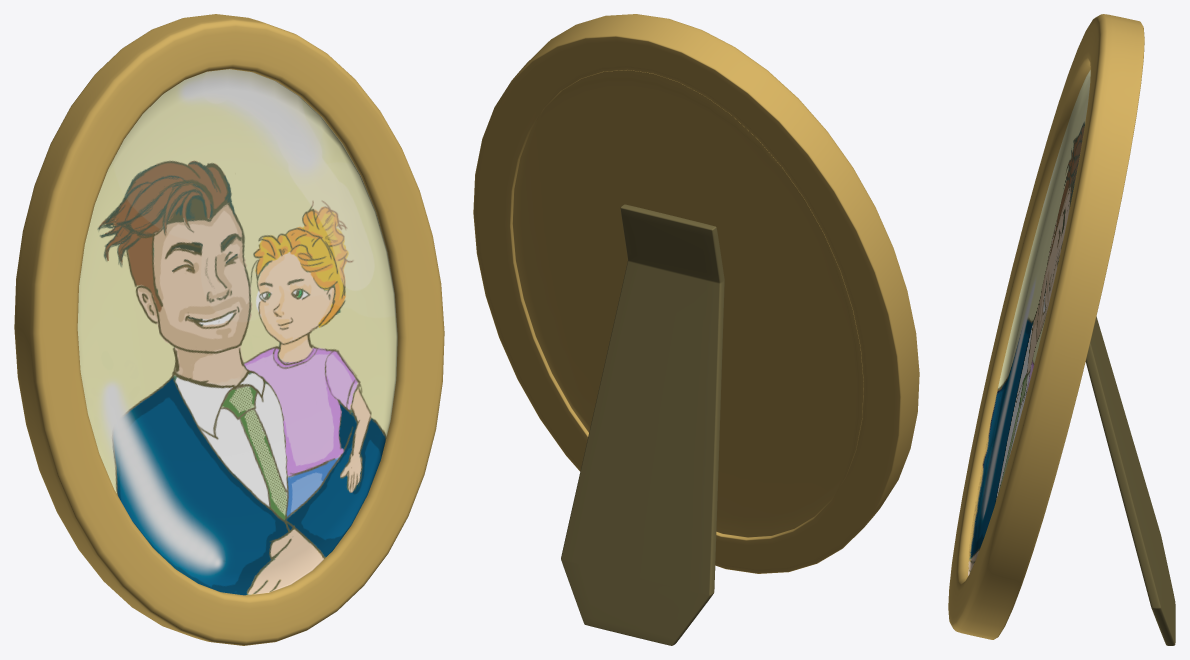
File: MarcoPadreAmelia.fbx
3 views of the same model, side by side, from view 1: azimuth 30°, elevation 25°; view 2: azimuth 150°, elevation 25°; view 3: azimuth 270°, elevation 25° (orthographic). The views are drawn at different scales.
Visible parts, largest first — view 1: MarcoPadreAmelia_GEO1; view 2: MarcoPadreAmelia_GEO1; view 3: MarcoPadreAmelia_GEO1.
Boxes of the visible parts, <box> form: MarcoPadreAmelia_GEO1: <box>14,14,444,645</box>; MarcoPadreAmelia_GEO1: <box>473,14,919,645</box>; MarcoPadreAmelia_GEO1: <box>948,14,1175,645</box>.
Bounding box in the file's own units: 18.59 × 25.02 × 8.72.
Materials: 2 (1 with a texture image).
